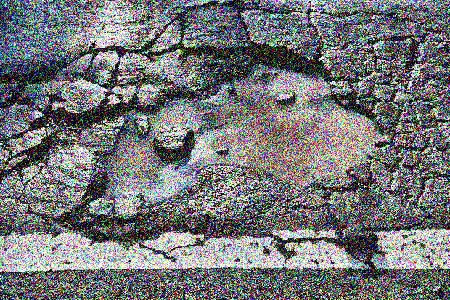pothole: (53, 38, 392, 241)
